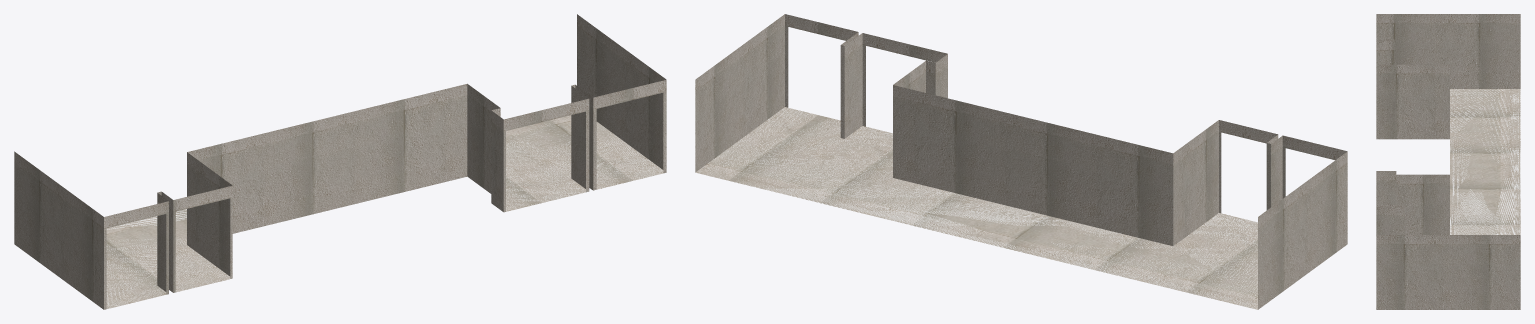
Rendered from COM013.obj.
3 views of the same model, side by side, from view 1: azimuth 30°, elevation 25°; view 2: azimuth 150°, elevation 25°; view 3: azimuth 270°, elevation 25° (orthographic). The views are drawn at different scales.
Visible parts, largest first — view 1: Mesh1 COM013 Model; view 2: Mesh1 COM013 Model; view 3: Mesh1 COM013 Model.
Boxes of the visible parts, box(x1,y1,x2,y2) form: Mesh1 COM013 Model: box(14, 14, 666, 309); Mesh1 COM013 Model: box(695, 14, 1347, 309); Mesh1 COM013 Model: box(1376, 14, 1520, 309).
Size of the model in its own units: 18.85 by 2.98 by 5.21.
2 materials, 1 textured.
